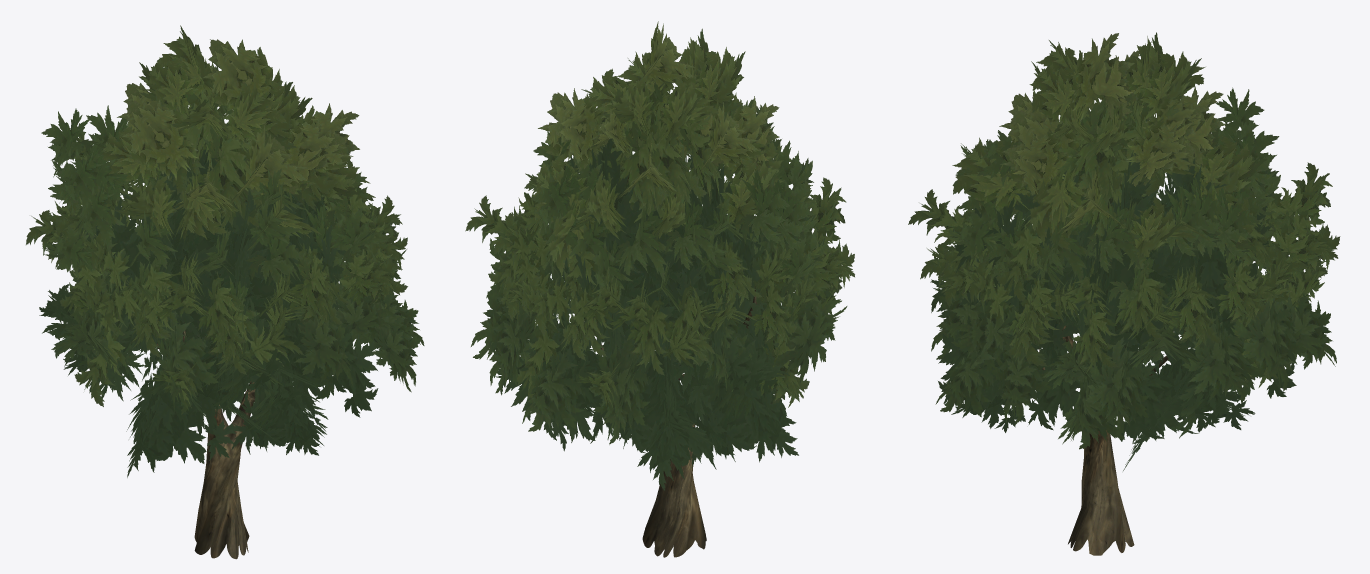
Rendered from tree_oak_01b.fbx.
3 views of the same model, side by side, from view 1: azimuth 30°, elevation 25°; view 2: azimuth 150°, elevation 25°; view 3: azimuth 270°, elevation 25° (orthographic).
Visible parts, largest first — view 1: tree_oak_01b; view 2: tree_oak_01b; view 3: tree_oak_01b.
Boxes of the visible parts, x1=… form: tree_oak_01b: x1=26, y1=25, x2=424, y2=559; tree_oak_01b: x1=465, y1=21, x2=854, y2=557; tree_oak_01b: x1=908, y1=32, x2=1340, y2=555.
Bounding box in the file's own units: 23311 × 31882 × 25016.
